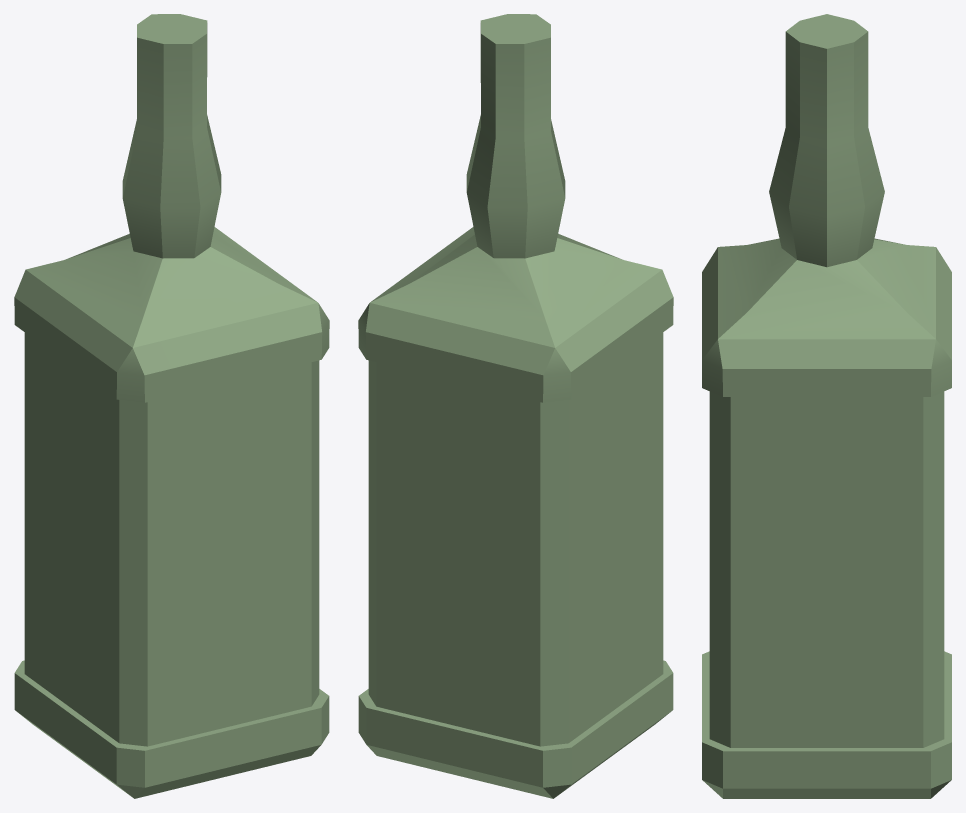
Rendered from Whisky_Bottle.fbx.
3 renders of one model, left to right at view 1: azimuth 30°, elevation 25°; view 2: azimuth 150°, elevation 25°; view 3: azimuth 270°, elevation 25°, orthographic.
Visible parts, largest first — view 1: Whisky_Bottle; view 2: Whisky_Bottle; view 3: Whisky_Bottle.
Boxes of the visible parts, x1,y1,x2,y2 form: Whisky_Bottle: (14, 14, 329, 798); Whisky_Bottle: (358, 14, 673, 798); Whisky_Bottle: (702, 14, 951, 798).
Size of the model in its own units: 14.32 by 45.76 by 14.32.
